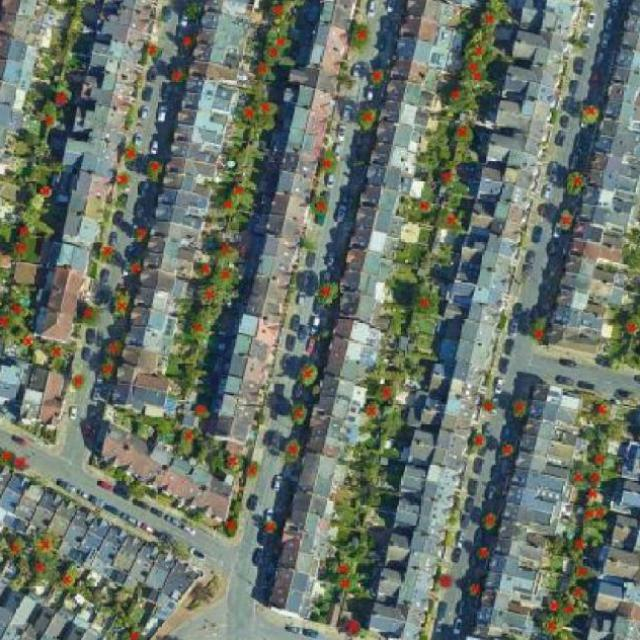tree: (454, 27, 507, 65), (434, 80, 481, 117), (174, 307, 218, 342), (342, 15, 379, 54), (186, 281, 238, 308), (291, 354, 325, 395), (28, 528, 66, 564), (474, 0, 513, 35), (205, 259, 250, 289), (302, 187, 338, 223), (409, 289, 444, 324), (104, 292, 142, 323), (313, 274, 342, 314), (504, 391, 537, 426), (172, 423, 205, 458), (353, 102, 383, 139), (21, 556, 62, 583), (522, 314, 554, 348), (574, 97, 606, 131), (312, 145, 341, 182), (276, 435, 305, 472), (548, 206, 579, 240), (447, 118, 478, 152), (140, 155, 174, 186), (56, 564, 89, 595), (335, 612, 371, 640), (283, 397, 315, 428), (217, 448, 249, 479), (430, 166, 464, 195), (245, 56, 279, 85), (72, 299, 106, 328), (562, 535, 597, 563), (564, 562, 599, 590), (558, 593, 585, 629), (40, 341, 77, 367), (561, 168, 590, 201), (437, 206, 470, 235), (186, 257, 219, 286), (219, 177, 258, 201), (352, 480, 384, 509), (587, 398, 616, 429), (365, 63, 396, 92), (407, 194, 439, 222), (232, 98, 260, 130), (184, 579, 216, 607), (4, 529, 30, 563), (254, 45, 289, 70), (372, 379, 403, 407), (262, 32, 301, 54), (191, 395, 218, 426), (575, 487, 611, 510), (478, 503, 502, 537), (174, 25, 201, 55), (491, 440, 523, 465), (219, 510, 244, 542), (261, 0, 299, 21), (47, 84, 75, 112), (329, 556, 363, 579), (465, 426, 491, 456), (538, 608, 562, 640), (99, 337, 131, 361), (163, 65, 192, 91), (213, 193, 244, 217), (331, 573, 363, 596), (619, 306, 640, 341), (602, 418, 629, 445), (95, 358, 122, 385), (129, 223, 157, 249), (67, 370, 92, 399), (110, 165, 139, 190), (14, 333, 43, 358), (36, 107, 61, 135), (467, 544, 496, 568), (9, 235, 34, 262), (211, 243, 242, 264), (97, 239, 122, 265), (463, 72, 497, 91), (262, 515, 285, 543), (118, 621, 151, 640), (119, 140, 144, 165), (462, 577, 488, 601), (254, 99, 281, 122), (455, 60, 491, 77), (141, 38, 165, 62), (243, 458, 265, 484), (0, 301, 16, 336), (14, 452, 38, 475), (123, 256, 144, 282), (567, 465, 587, 492), (10, 219, 37, 239), (586, 452, 614, 470), (550, 626, 586, 640), (358, 401, 382, 422), (476, 397, 499, 418), (569, 583, 590, 606), (620, 351, 640, 375), (6, 296, 26, 320), (583, 466, 608, 485), (438, 568, 456, 594), (576, 508, 597, 530), (540, 595, 562, 616), (33, 184, 57, 202), (0, 442, 15, 469), (603, 358, 624, 377), (594, 502, 612, 523)
